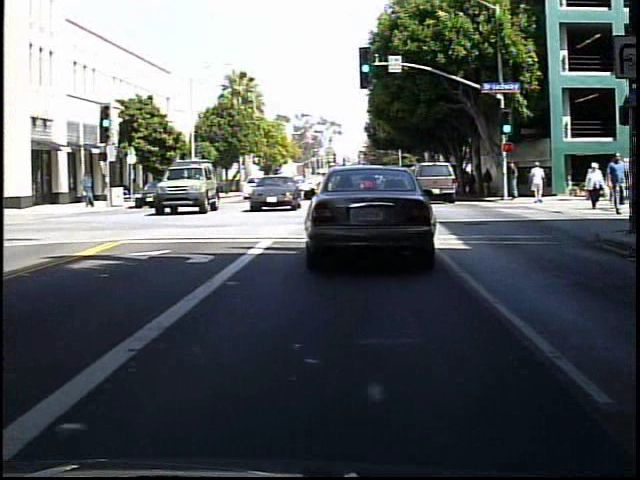person: (606, 151, 628, 217), (582, 162, 607, 211), (500, 158, 520, 206), (526, 161, 545, 206), (82, 171, 99, 209), (480, 167, 494, 199), (466, 168, 478, 199)
